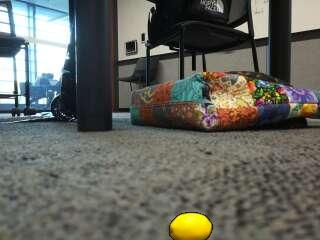lemon: (171, 214, 212, 240)
